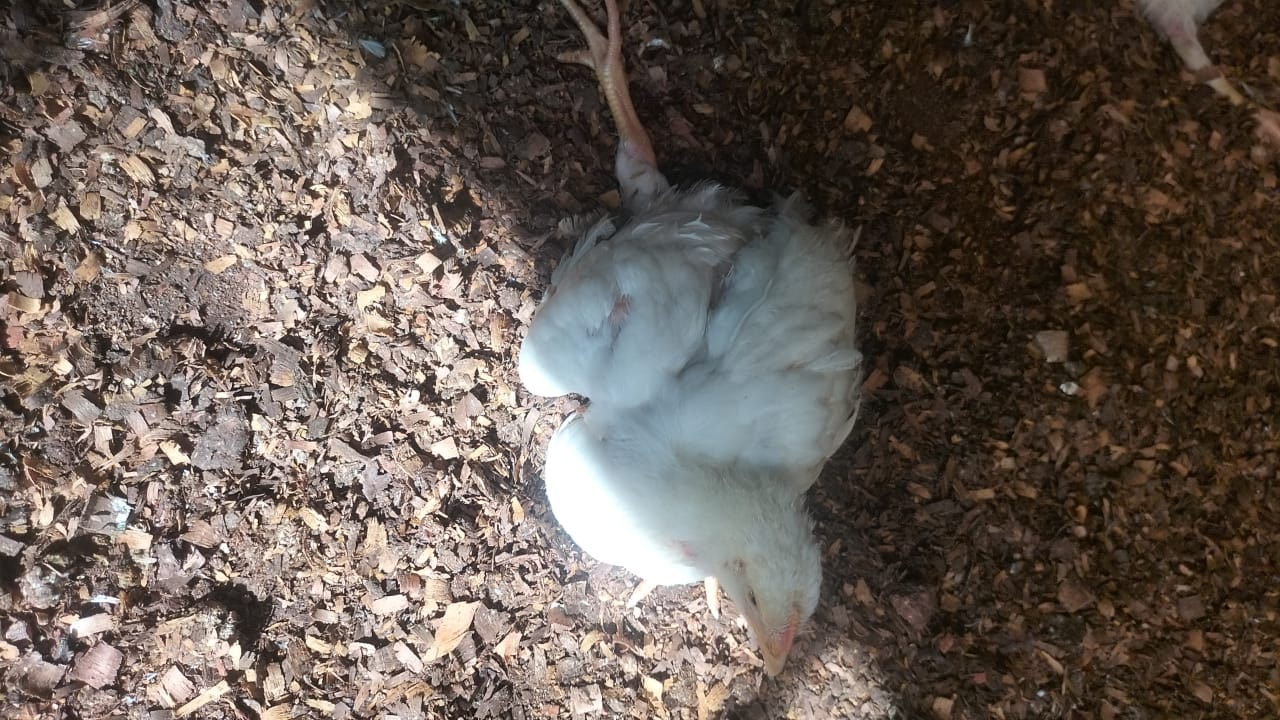Unhealthy: (504, 7, 910, 701)
